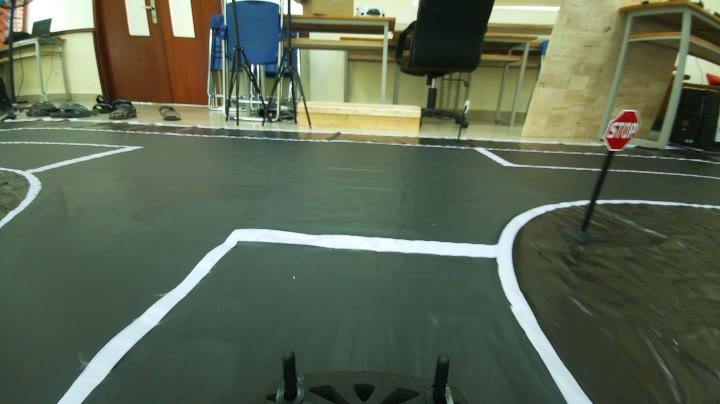stop: (602, 106, 642, 162)
